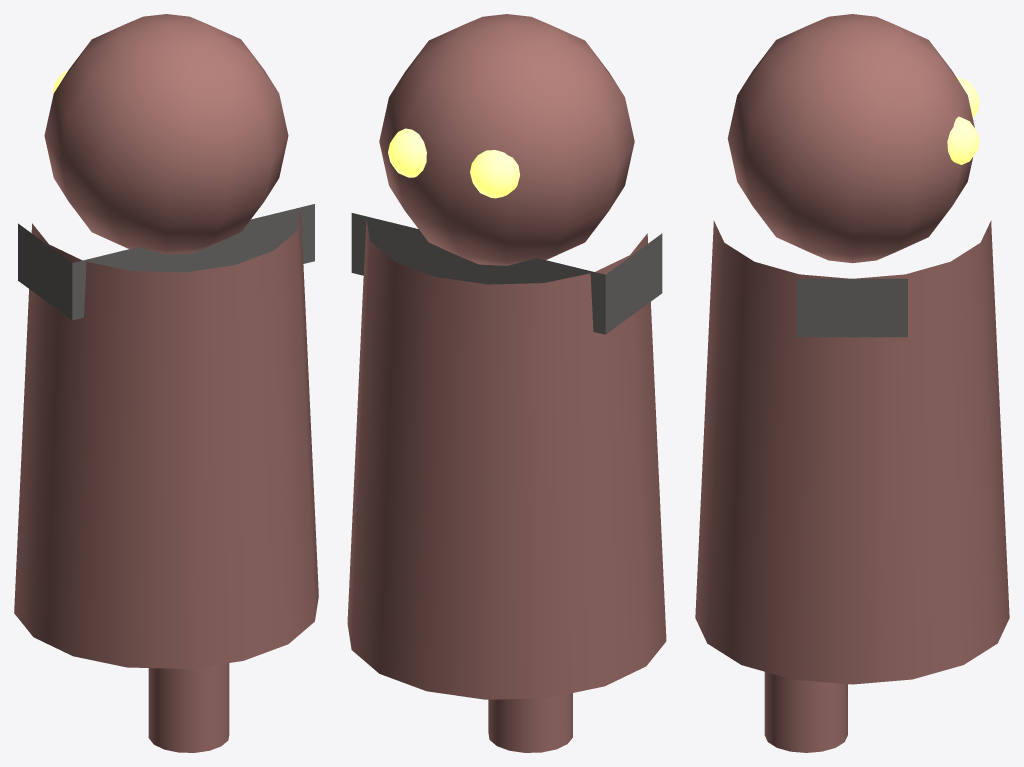
Rendered from model.monster.glb.
The picture shows the model from 3 angles, left to right: view 1: azimuth 30°, elevation 25°; view 2: azimuth 150°, elevation 25°; view 3: azimuth 270°, elevation 25°; orthographic projection. The views are drawn at different scales.
Parts seen in each view (by area): view 1: monster; view 2: monster; view 3: monster.
Part boxes in pixels (left/top/right/bottom): monster: left=14, top=14, right=318, bottom=752; monster: left=347, top=14, right=666, bottom=752; monster: left=695, top=14, right=1009, bottom=752.
Bounding box in the file's own units: 0.6802 × 1.7 × 0.6802.
